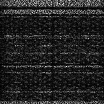lte: (1, 1, 104, 6), (1, 9, 104, 13), (1, 101, 104, 104), (1, 65, 104, 67)
